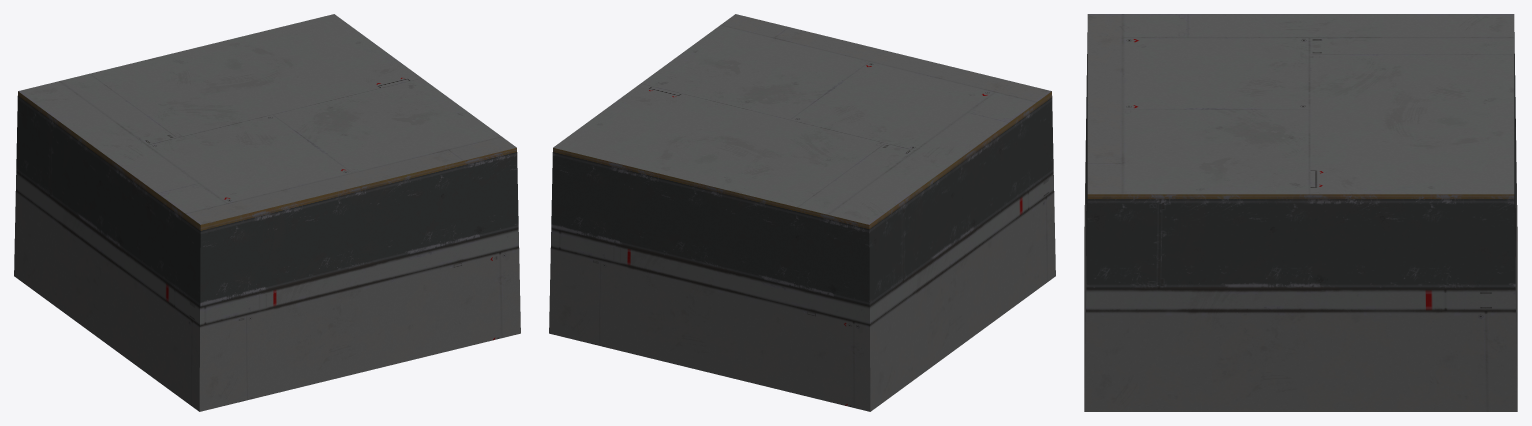
Rendered from Antenna_06_Base_L3.fbx.
3 views of the same model, side by side, from view 1: azimuth 30°, elevation 25°; view 2: azimuth 150°, elevation 25°; view 3: azimuth 270°, elevation 25° (orthographic). The views are drawn at different scales.
Visible parts, largest first — view 1: pCube20; view 2: pCube20; view 3: pCube20.
Boxes of the visible parts, x1,y1,x2,y2 form: pCube20: (14,14,520,411); pCube20: (549,14,1055,411); pCube20: (1084,14,1517,411).
Bounding box in the file's own units: 223 × 123 × 223.
